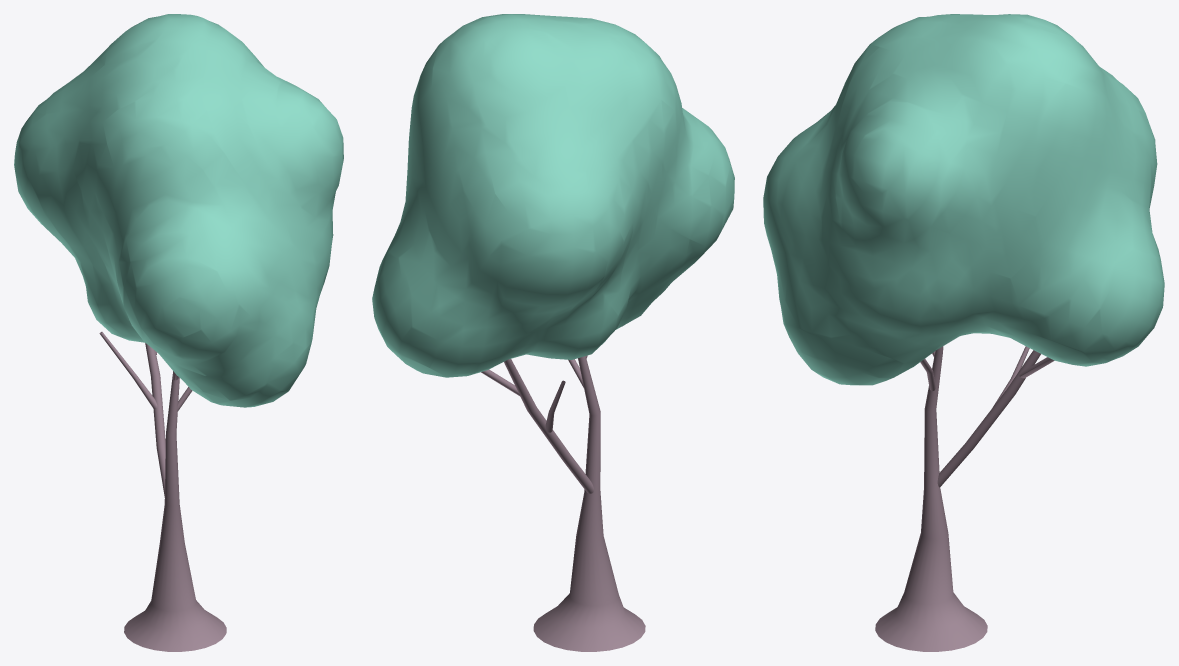
Rendered from tree01.fbx.
3 views of the same model, side by side, from view 1: azimuth 30°, elevation 25°; view 2: azimuth 150°, elevation 25°; view 3: azimuth 270°, elevation 25° (orthographic). The views are drawn at different scales.
Visible parts, largest first — view 1: Wood_1_58; view 2: Wood_1_58; view 3: Wood_1_58.
Boxes of the visible parts, <box> form: Wood_1_58: <box>14,14,343,651</box>; Wood_1_58: <box>372,14,734,651</box>; Wood_1_58: <box>763,14,1164,651</box>.
Size of the model in its own units: 99.39 by 227 by 132.
